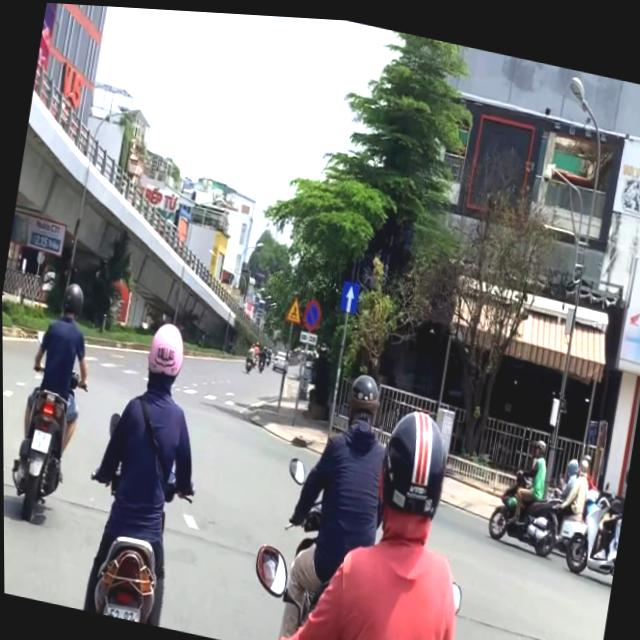Cam do xe: (301, 292, 324, 328)
Duong mot chieu: (339, 276, 360, 311)
Nguoi di bo cat ngang: (283, 288, 306, 324)
